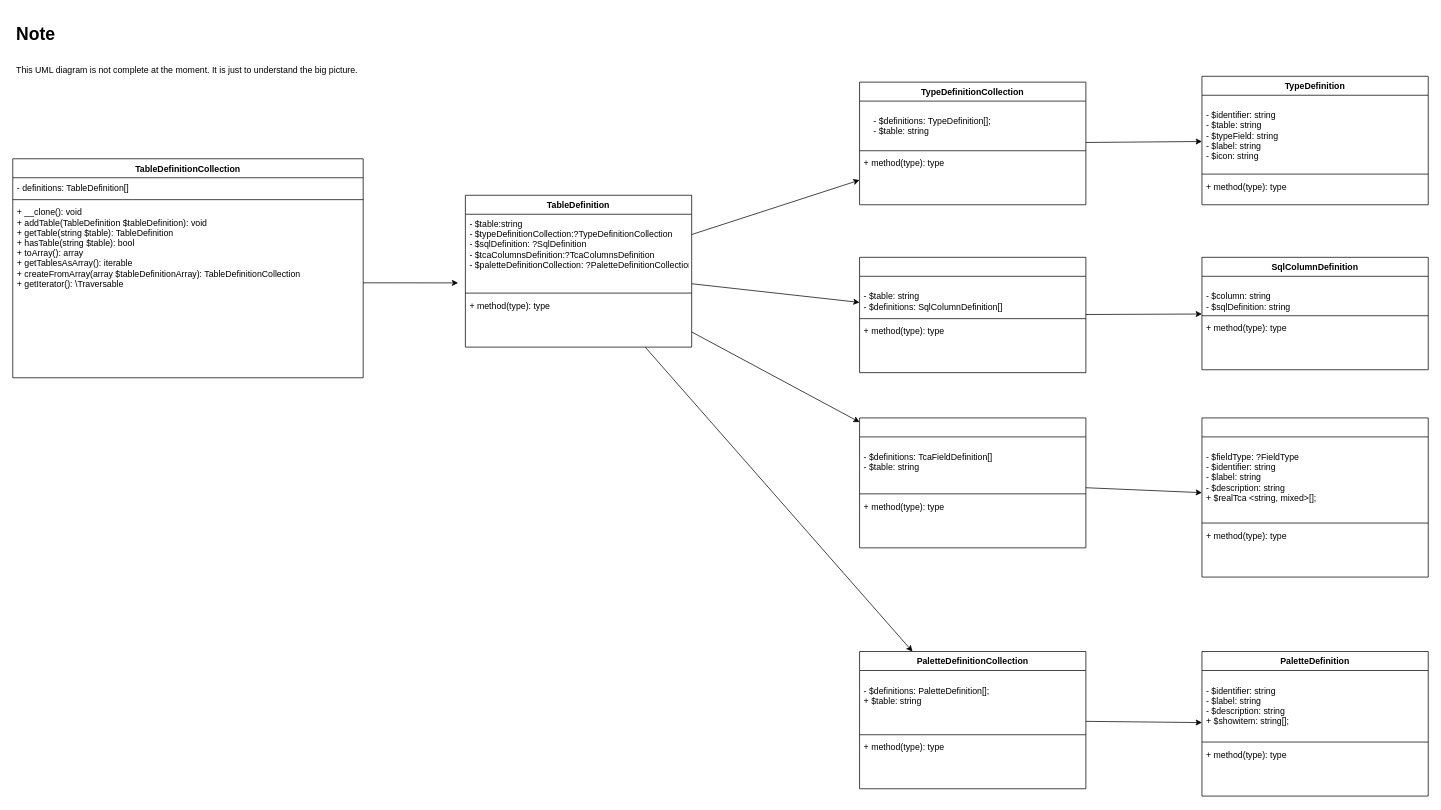
Some shapes in this 1441 by 810 pixel diagram are drawn without their labels. Here are the shapes that lost their labels. From the top down, the box of each, then its label:
(859, 257, 1086, 373): SqlDefinition
(859, 417, 1086, 548): TcaColumnsDefinition
(1201, 417, 1428, 577): TcaFieldDefinition
